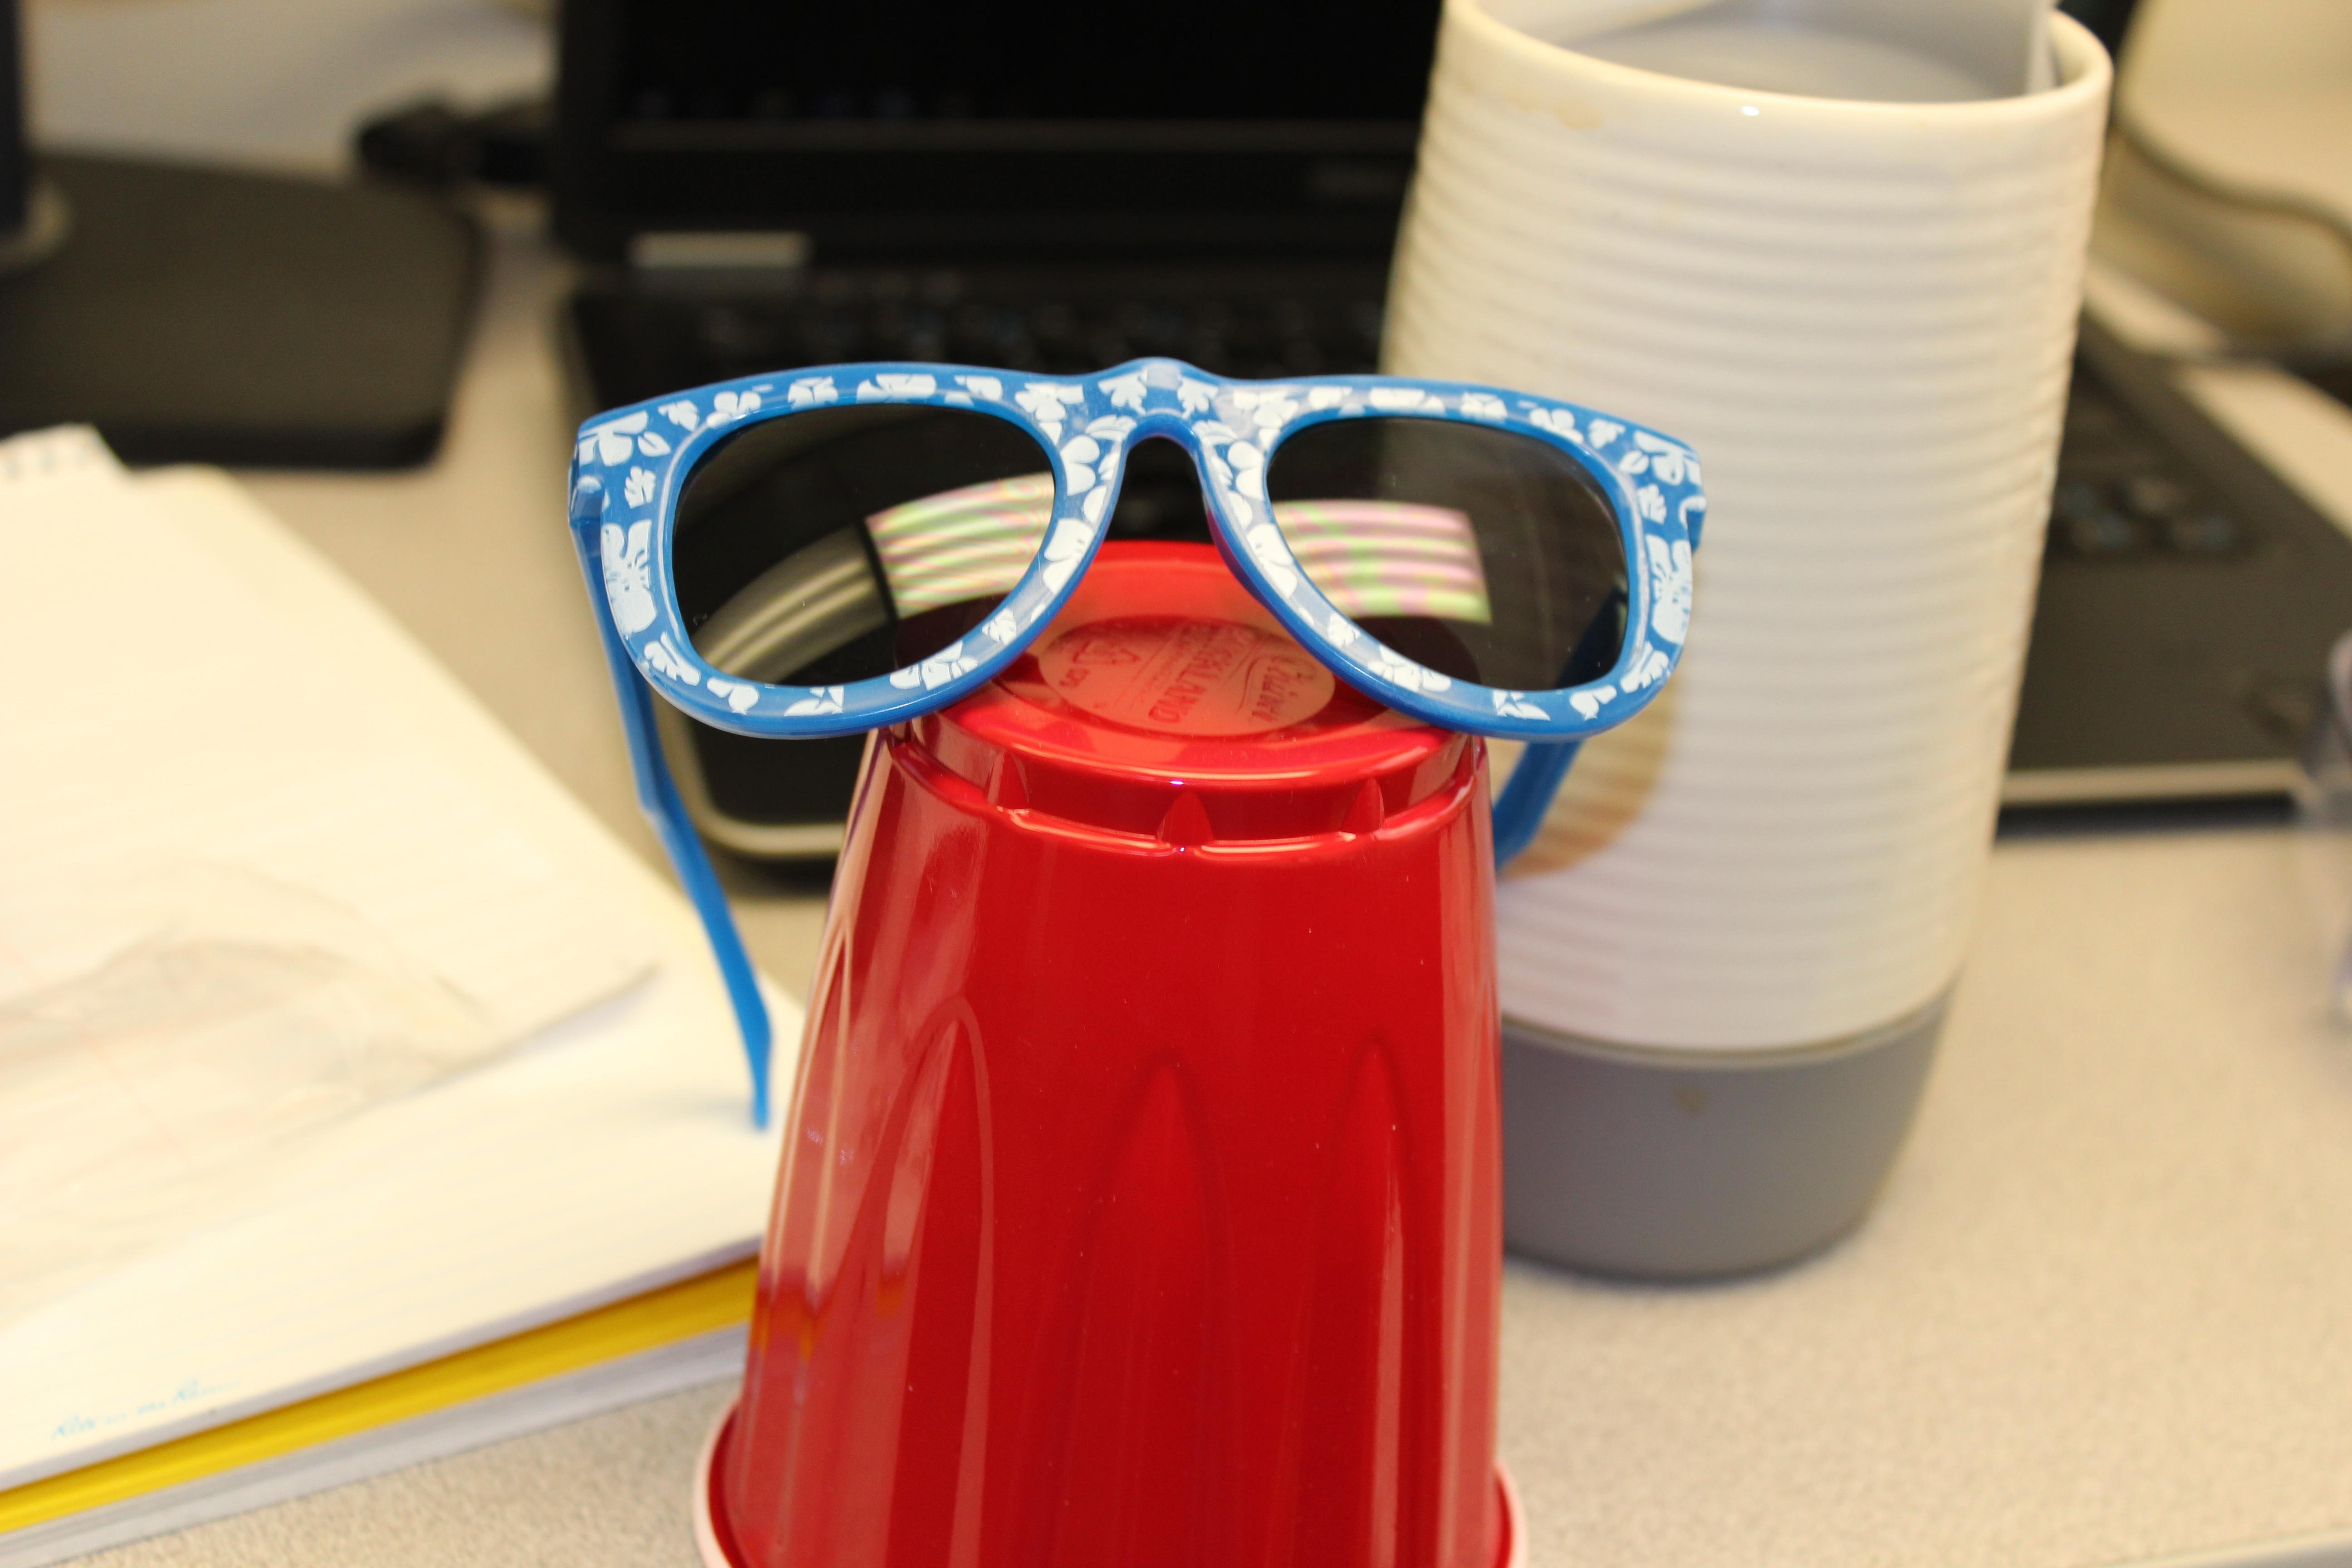blueSunglasses: (481, 338, 1836, 1153)
